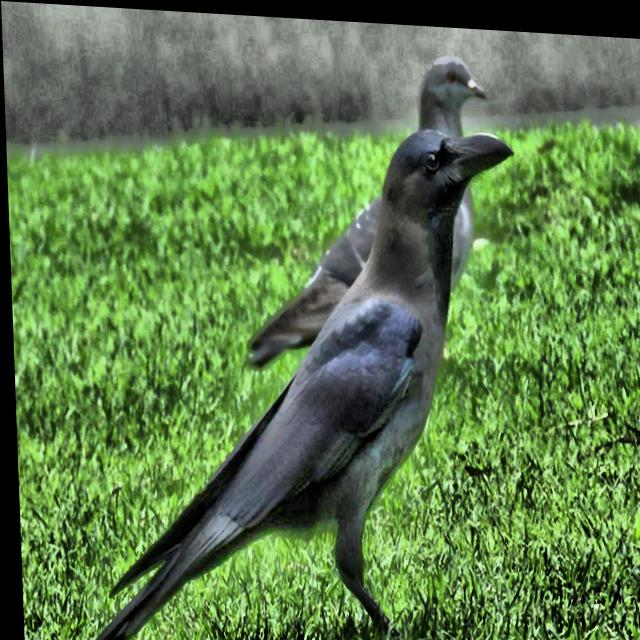crow: (66, 32, 531, 640)
